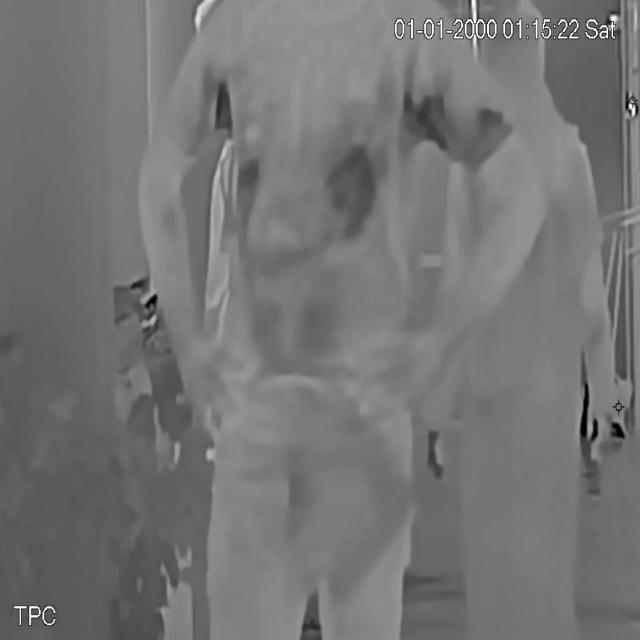Weapon: (324, 419, 429, 607)
